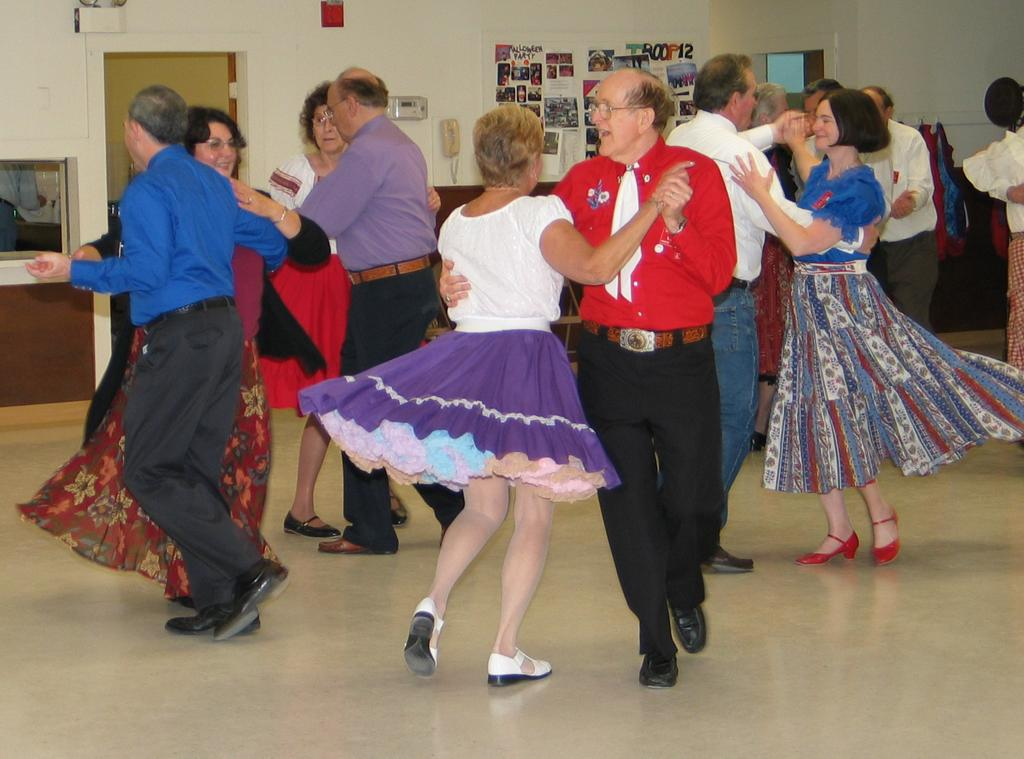face: (590, 82, 641, 154), (193, 121, 236, 179), (328, 89, 360, 138), (123, 120, 154, 170), (812, 101, 842, 149), (313, 104, 344, 150), (731, 75, 757, 126)
